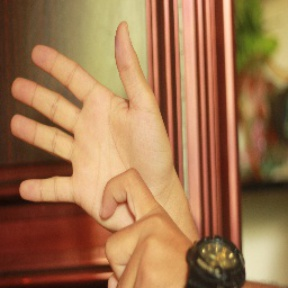R: (11, 19, 196, 288)
